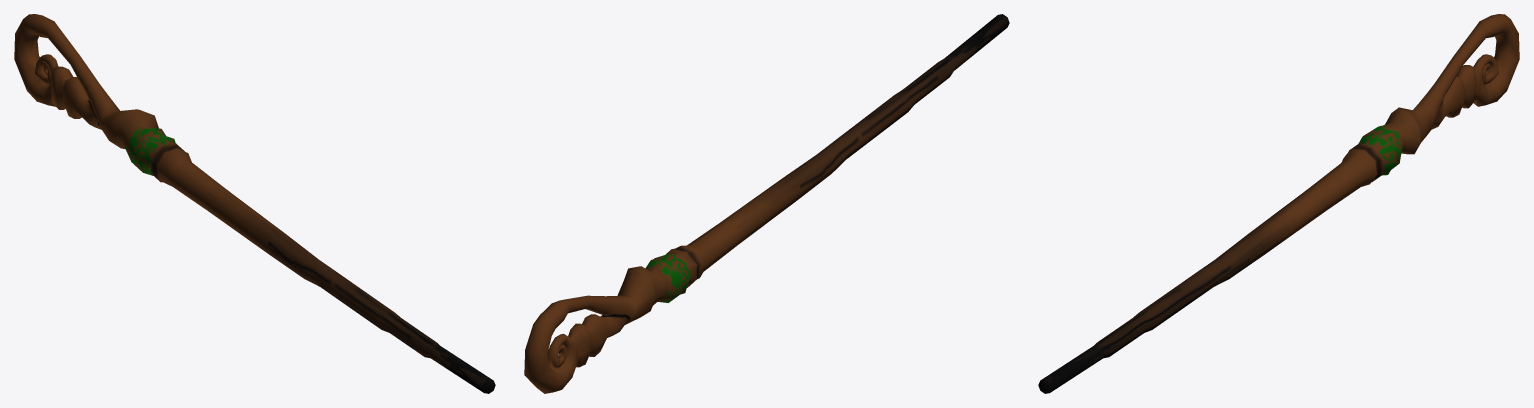
Rendered from whwand.glb.
3 views of the same model, side by side, from view 1: azimuth 30°, elevation 25°; view 2: azimuth 150°, elevation 25°; view 3: azimuth 330°, elevation 25° (orthographic).
Visible parts, largest first — view 1: Wand_1; view 2: Wand_1; view 3: Wand_1.
Part boxes in pixels (<box>): Wand_1: <box>14,14,495,393</box>; Wand_1: <box>524,14,1009,393</box>; Wand_1: <box>1038,14,1519,393</box>.
Size of the model in its own units: 1.89 by 3.57 by 35.57.
1 material, 1 textured.
